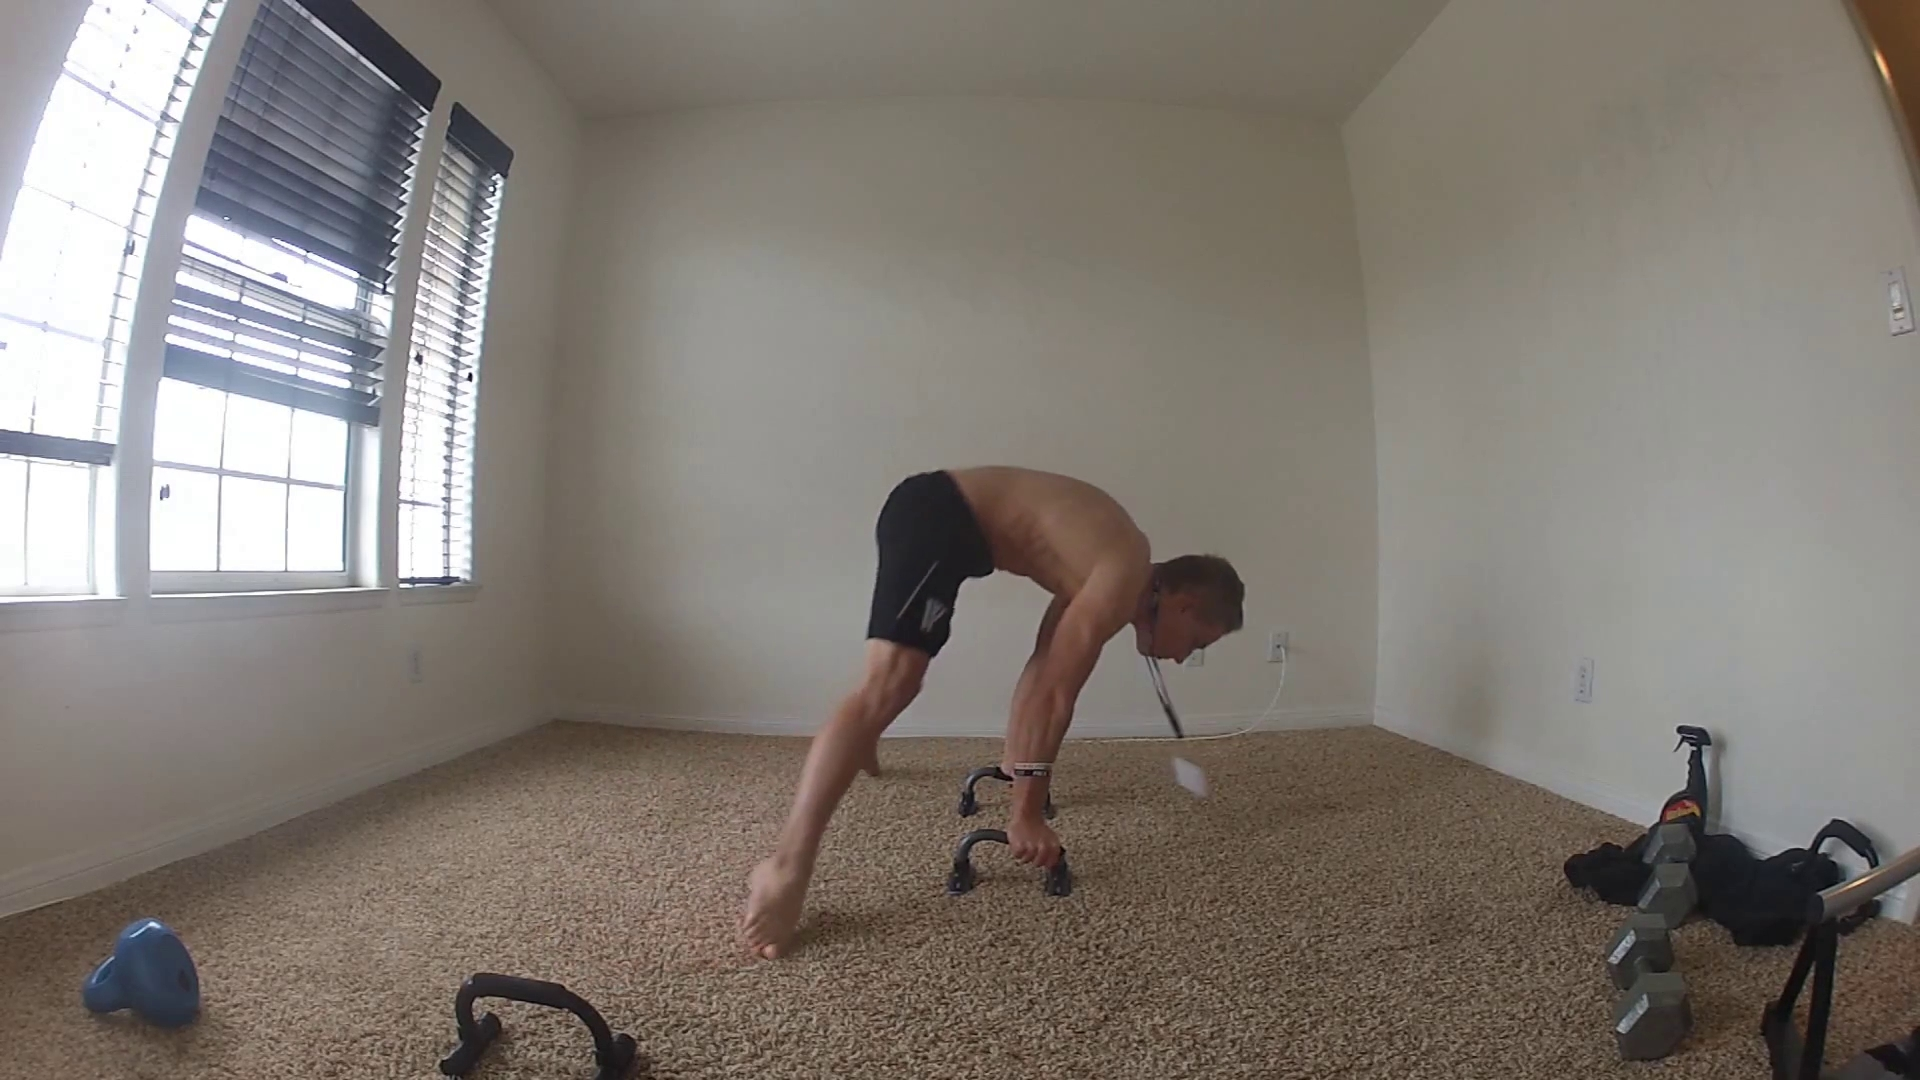person: (739, 465, 1246, 960)
